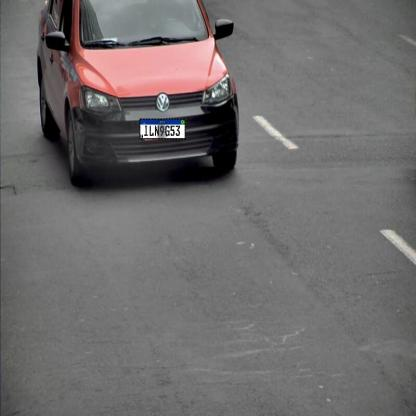PlacaM: (139, 118, 186, 140)
